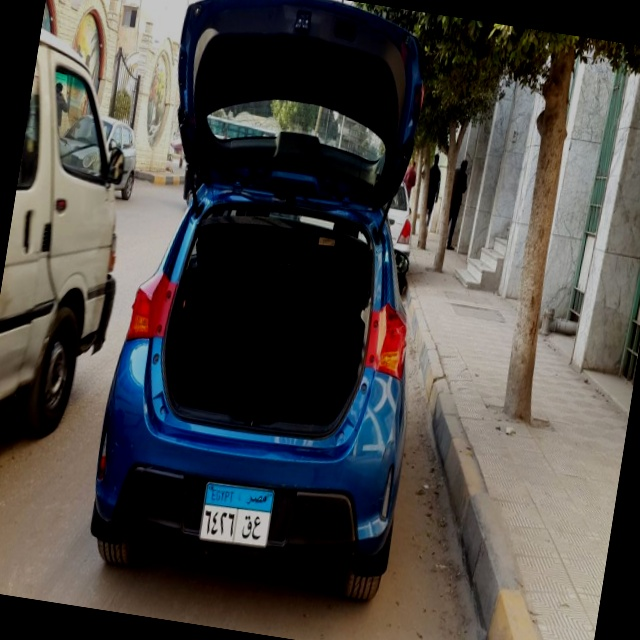License Plate: (195, 476, 277, 553)
